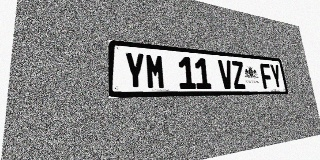1: (177, 56, 196, 89), (194, 57, 211, 89)
F: (259, 63, 273, 89)
M: (145, 53, 166, 89)
V: (218, 60, 234, 89)
Y: (124, 52, 146, 89), (269, 64, 283, 89)
Z: (231, 61, 246, 89)
